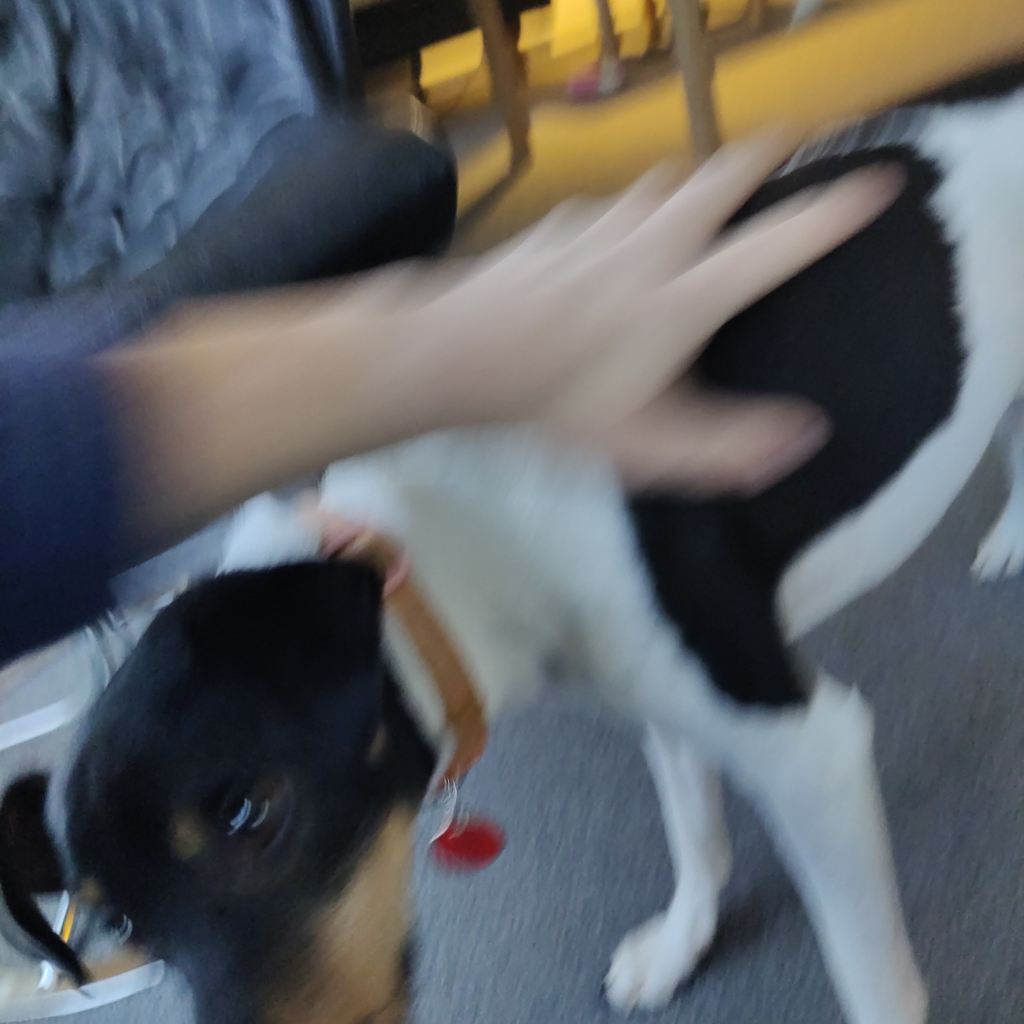Dog: (0, 30, 1024, 1024)
Humanoid: (0, 89, 943, 691)
